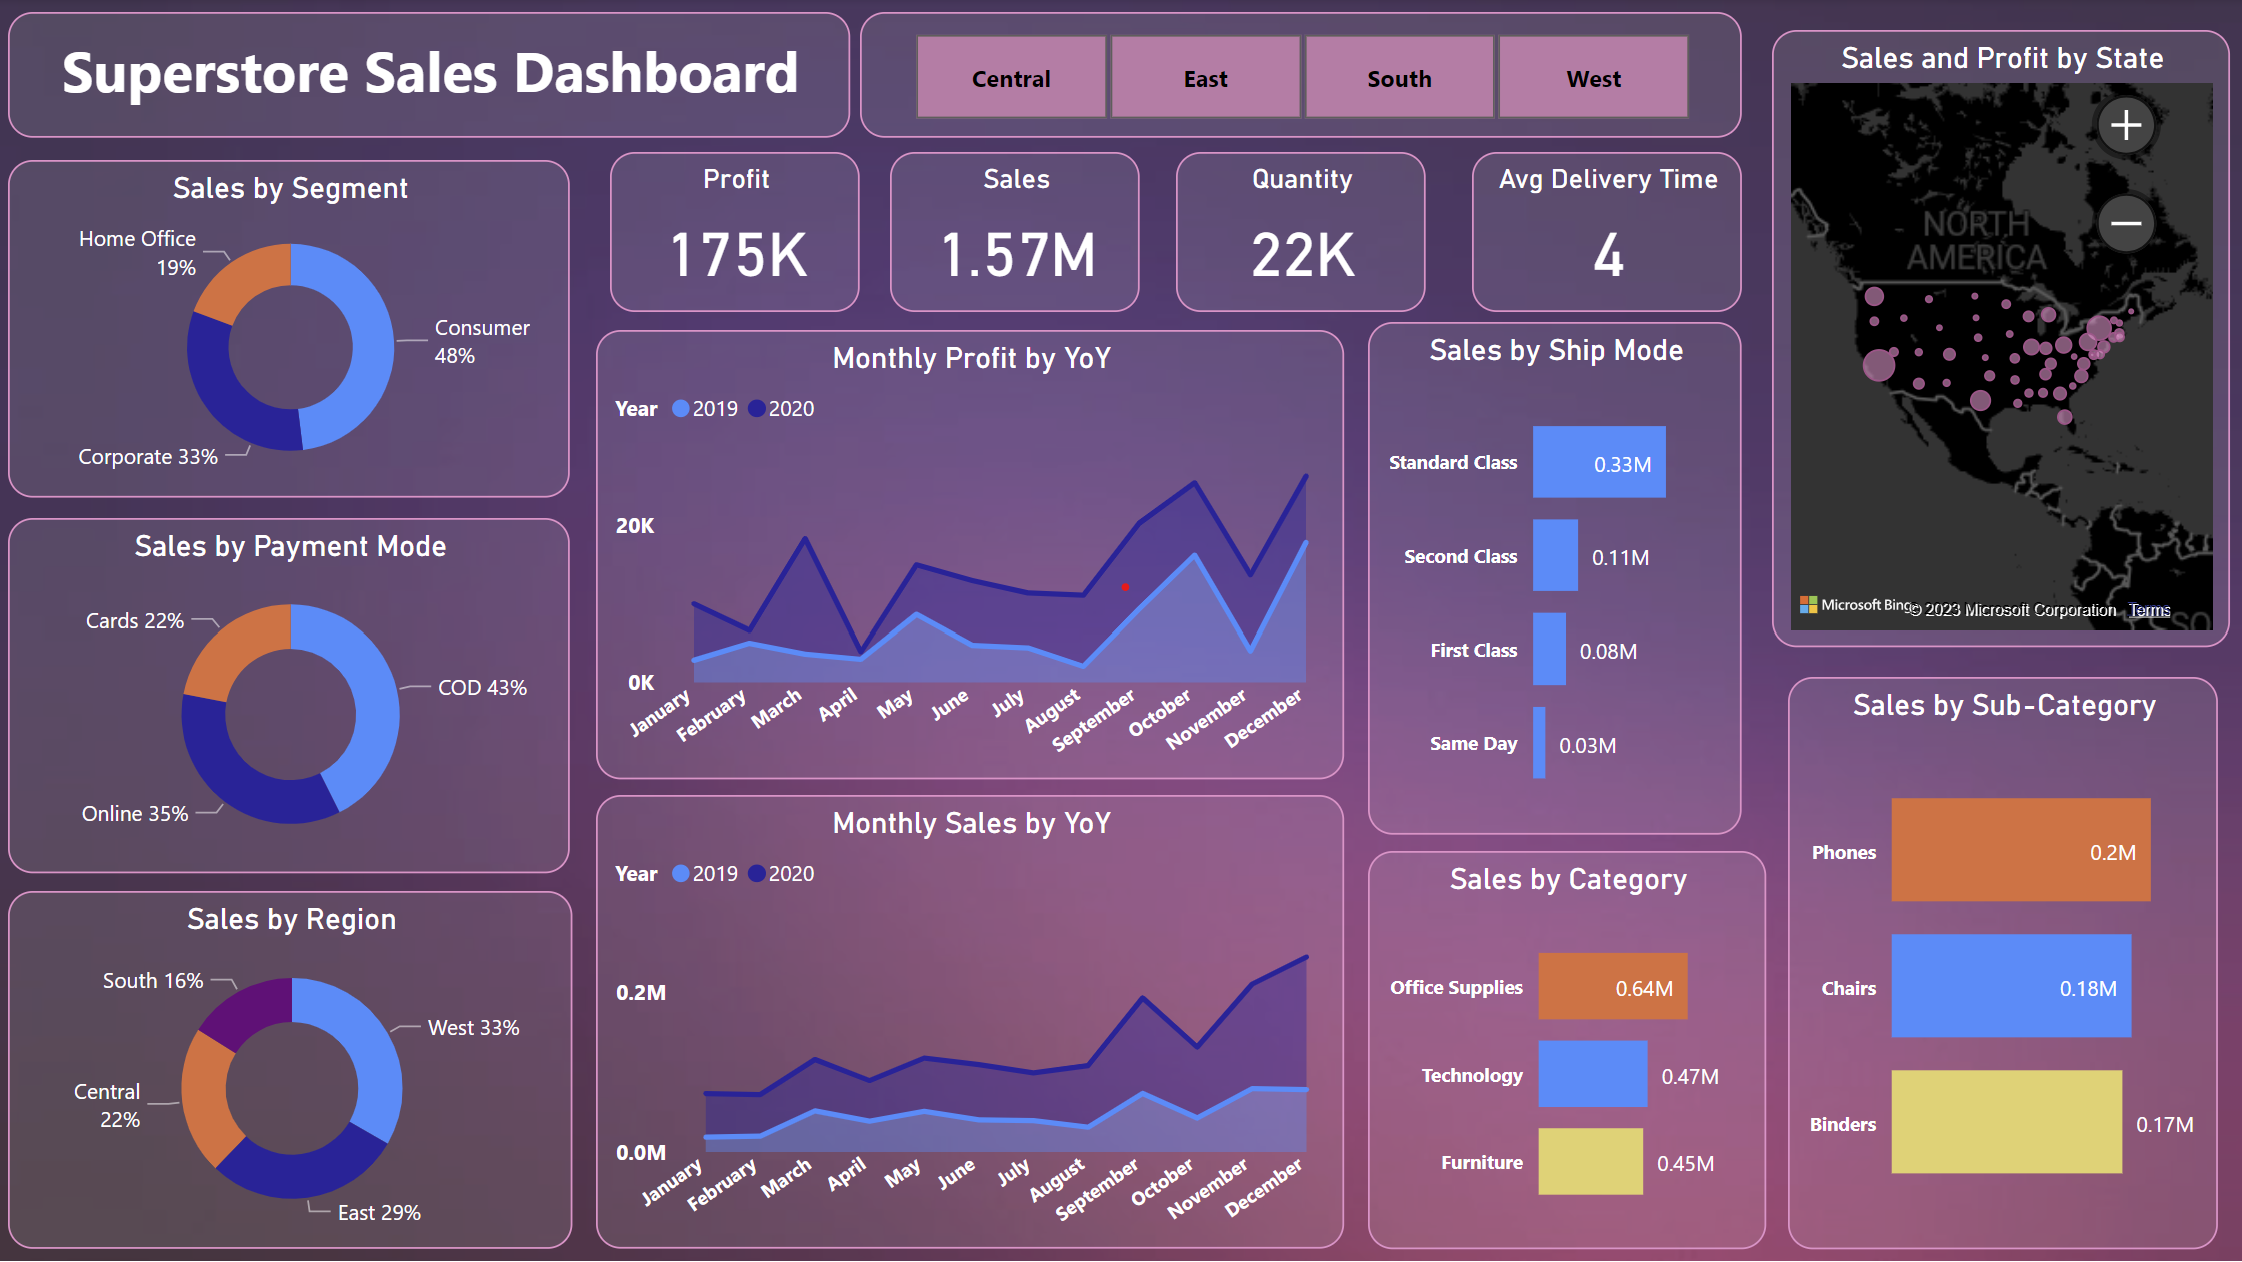

This screenshot's page, from the dashboard's own definition file:
{"tool":"powerbi","page":{"name":"Page 1","canvas":[1280,720],"ordinal":0},"visuals":[{"type":"clusteredBarChart","title":"Sales by Category","fields":{"Category":["Sheet1.Category"],"Y":["Sum(Sheet1.Sales)"]},"box":[781.4,484.5,226.4,226.4],"z":0},{"type":"clusteredBarChart","title":"Sales by Sub-Category","fields":{"Category":["Sheet1.Sub-Category"],"Y":["Sum(Sheet1.Sales)"]},"box":[1020.3,385.6,244.5,325.3],"z":1000},{"type":"clusteredBarChart","title":"Sales by Ship Mode","fields":{"Category":["Sheet1.Ship Mode"],"Y":["Sum(Sheet1.Sales)"]},"box":[781.4,184.3,212.7,291.2],"z":2000},{"type":"stackedAreaChart","title":"Monthly Sales by YoY","fields":{"Y":["Sum(Sheet1.Sales)"],"Category":["Sheet1.Order Date.Variation.Date Hierarchy.Month","Sheet1.Order Date.Variation.Date Hierarchy.Day"],"Series":["Sheet1.Order Date.Variation.Date Hierarchy.Year"]},"box":[342.4,452.7,425.4,258.2],"z":3000},{"type":"stackedAreaChart","title":"Monthly Profit by YoY","fields":{"Category":["Sheet1.Order Date.Variation.Date Hierarchy.Month","Sheet1.Order Date.Variation.Date Hierarchy.Day"],"Series":["Sheet1.Order Date.Variation.Date Hierarchy.Year"],"Y":["Sum(Sheet1.Profit)"]},"box":[342.4,188.8,425.4,254.8],"z":4000},{"type":"map","title":"Sales and Profit by State","fields":{"Category":["Sheet1.State"],"Size":["Sum(Sheet1.Sales)"]},"box":[1011.2,18.2,260.5,350.3],"z":5000},{"type":"donutChart","title":"Sales by Segment","fields":{"Category":["Sheet1.Segment"],"Y":["Sum(Sheet1.Sales)"]},"box":[8,92.1,319.6,192.2],"z":5001},{"type":"donutChart","title":"Sales by Region","fields":{"Category":["Sheet1.Region"],"Y":["Sum(Sheet1.Sales)"]},"box":[8,507.3,320.8,203.6],"z":5002},{"type":"donutChart","title":"Sales by Payment Mode","fields":{"Category":["Sheet1.Payment Mode"],"Y":["Sum(Sheet1.Sales)"]},"box":[8,295.7,319.6,201.3],"z":5003},{"type":"slicer","fields":{"Values":["Sheet1.Region"]},"box":[492.5,8,501.6,71.7],"z":5004},{"type":"textbox","box":[8,8,478.9,71.7],"z":5005},{"type":"card","title":"Sales","fields":{"Values":["Sum(Sheet1.Sales)"]},"box":[509.6,87.6,142.2,91],"z":5006},{"type":"card","title":"Profit","fields":{"Values":["Sum(Sheet1.Profit)"]},"box":[350.3,87.6,142.2,91],"z":5007},{"type":"card","title":"Quantity","fields":{"Values":["Sum(Sheet1.Quantity)"]},"box":[672.2,87.6,142.2,91],"z":5008},{"type":"card","title":"Avg Delivery Time","fields":{"Values":["Avg(Sheet1.AvgDelvDate)"]},"box":[840.6,87.6,153.6,91],"z":5009}]}

Visuals, with their boxes in screenshot pixels (x1, y1, x2, y2), scaled from the page's 1280x720 canvas onto the 2242x1262 screenshot:
"Sales by Category" clusteredBarChart: (1369, 849, 1765, 1246)
"Sales by Sub-Category" clusteredBarChart: (1787, 676, 2215, 1246)
"Sales by Ship Mode" clusteredBarChart: (1369, 323, 1741, 833)
"Monthly Sales by YoY" stackedAreaChart: (600, 793, 1345, 1246)
"Monthly Profit by YoY" stackedAreaChart: (600, 331, 1345, 778)
"Sales and Profit by State" map: (1771, 32, 2227, 646)
"Sales by Segment" donutChart: (14, 161, 574, 498)
"Sales by Region" donutChart: (14, 889, 576, 1246)
"Sales by Payment Mode" donutChart: (14, 518, 574, 871)
slicer - Sheet1.Region: (863, 14, 1741, 140)
textbox: (14, 14, 853, 140)
"Sales" card: (893, 154, 1142, 313)
"Profit" card: (614, 154, 863, 313)
"Quantity" card: (1177, 154, 1426, 313)
"Avg Delivery Time" card: (1472, 154, 1741, 313)
